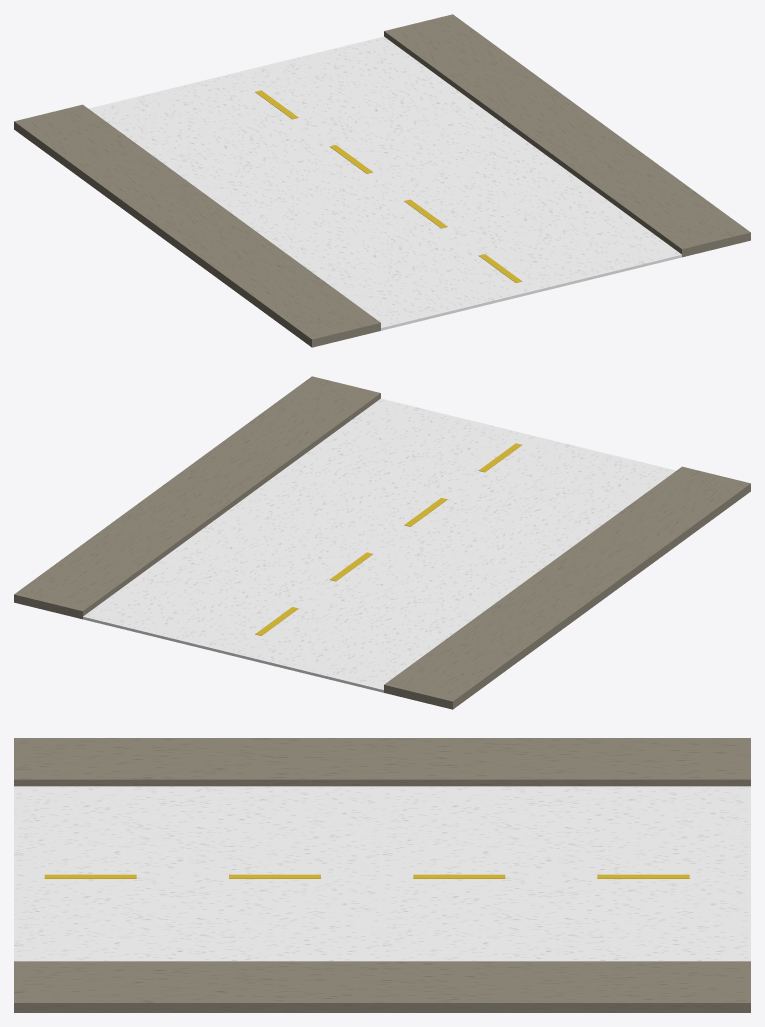
The model's file is rua-blocos.glb.
3 views of the same model, one above another, from view 1: azimuth 30°, elevation 25°; view 2: azimuth 150°, elevation 25°; view 3: azimuth 270°, elevation 25° (orthographic). The views are drawn at different scales.
Parts seen in each view (by area): view 1: asfalto, calcada (×2); view 2: asfalto, calcada (×2); view 3: asfalto, calcada (×2), faixa (×3).
Boxes of the visible parts, x1,y1,x2,y2 form: asfalto: (89,36,681,330); calcada (×2): (14,14,750,347); asfalto: (83,398,675,692); calcada (×2): (14,376,750,709); asfalto: (14,786,750,961); calcada (×2): (14,738,750,1012); faixa (×3): (44,874,689,878).
Size of the model in its own units: 10.2 by 0.18 by 12.
Materials: 7 (3 with a texture image).
